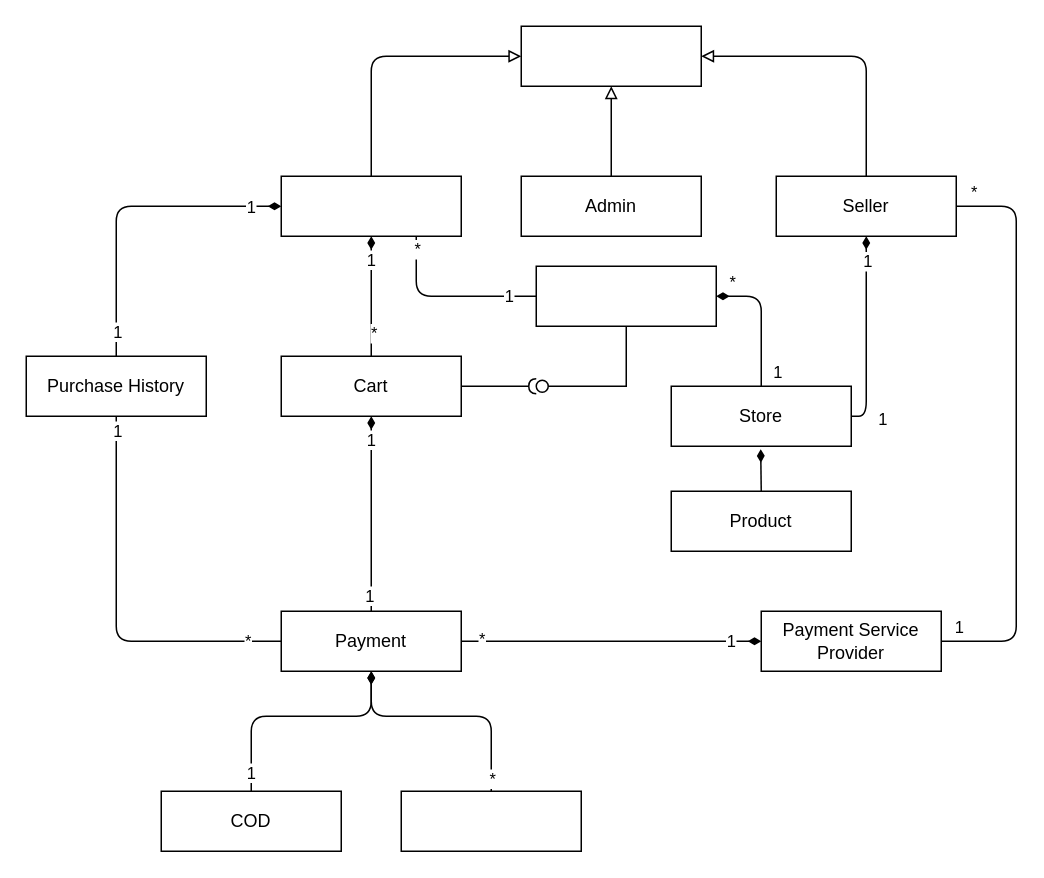
Image size: 1044x878. Some labels were removed from this diagram. Each missing label, with the centre of its shape:
Customer: [370,205]
E-market: [625,295]
Online service: [490,820]
User: [610,55]
